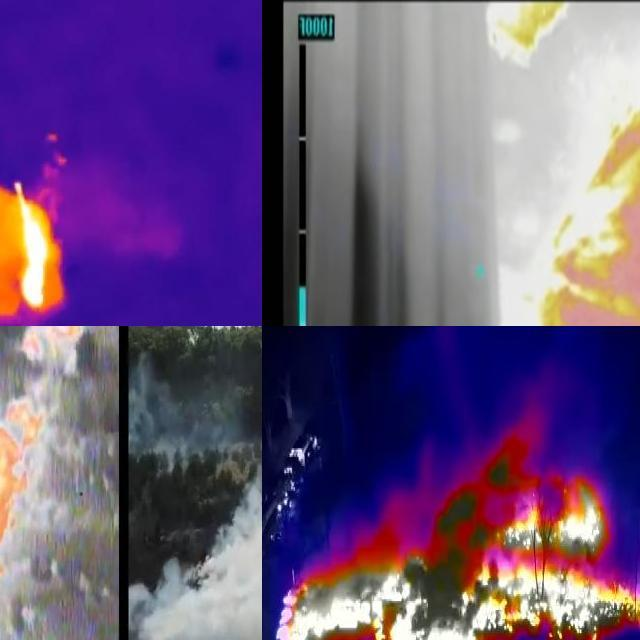fire: (276, 470, 640, 640), (540, 85, 640, 327), (1, 398, 46, 583), (16, 184, 50, 314), (21, 327, 85, 367)
